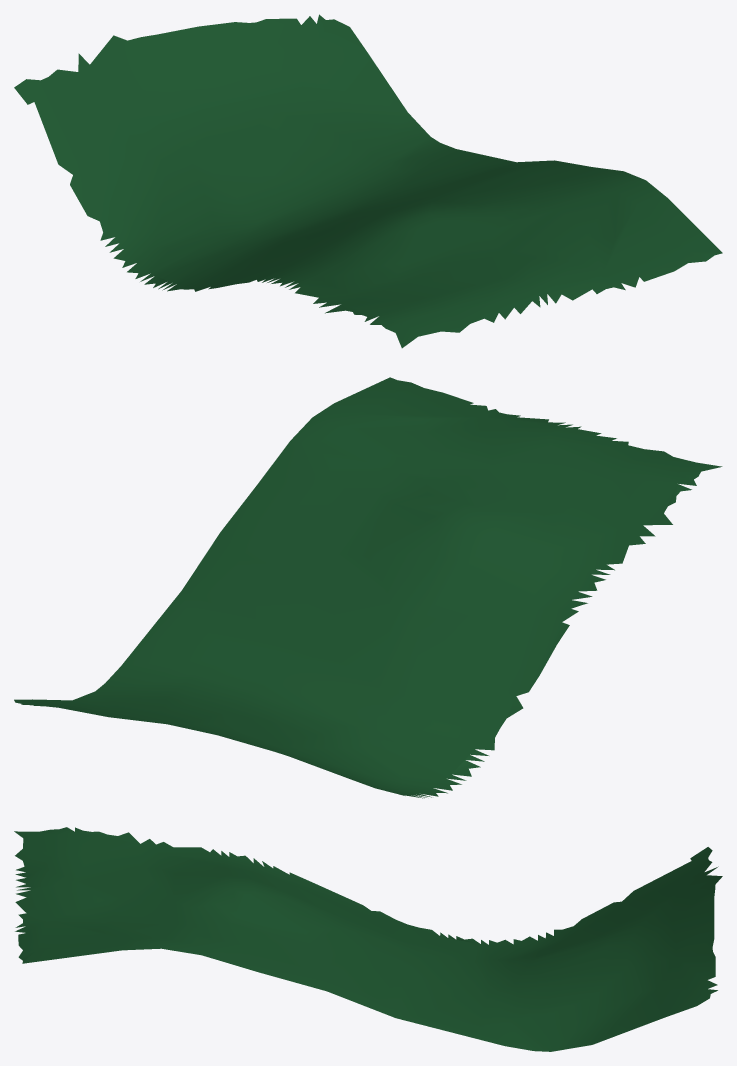
The model's file is payo_land_xm5_y1_lod2.glb.
3 renders of one model, top to bottom at view 1: azimuth 30°, elevation 25°; view 2: azimuth 150°, elevation 25°; view 3: azimuth 270°, elevation 25°, orthographic. The views are drawn at different scales.
Parts seen in each view (by area): view 1: payo_land_xm5_y1; view 2: payo_land_xm5_y1; view 3: payo_land_xm5_y1.
Part boxes in pixels (<box>): payo_land_xm5_y1: <box>14,14,722,348</box>; payo_land_xm5_y1: <box>14,377,722,798</box>; payo_land_xm5_y1: <box>14,827,722,1051</box>.
Size of the model in its own units: 131 by 55.81 by 262.
